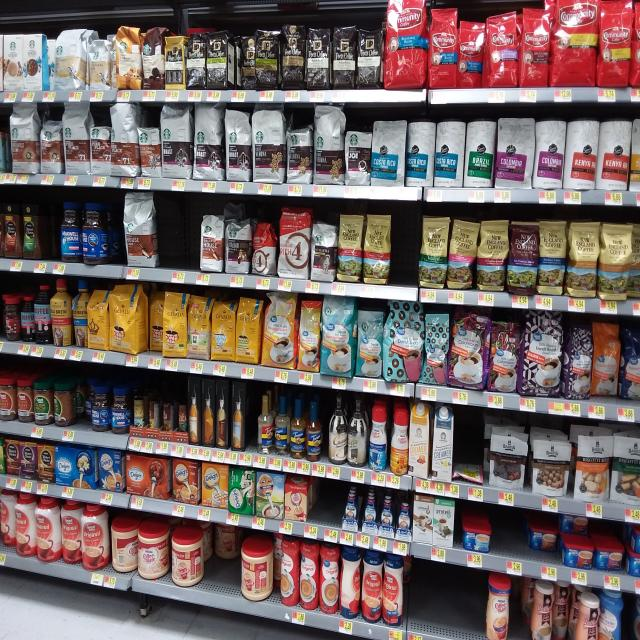void: (162, 196, 199, 284), (409, 568, 448, 640), (449, 566, 485, 640), (493, 509, 525, 574), (395, 204, 416, 301), (311, 484, 341, 540), (44, 198, 59, 274)
